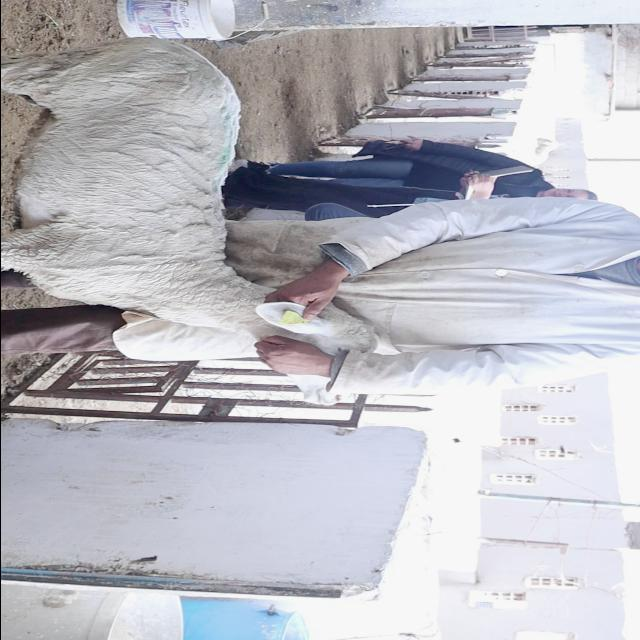Score_5: (1, 38, 377, 355)
